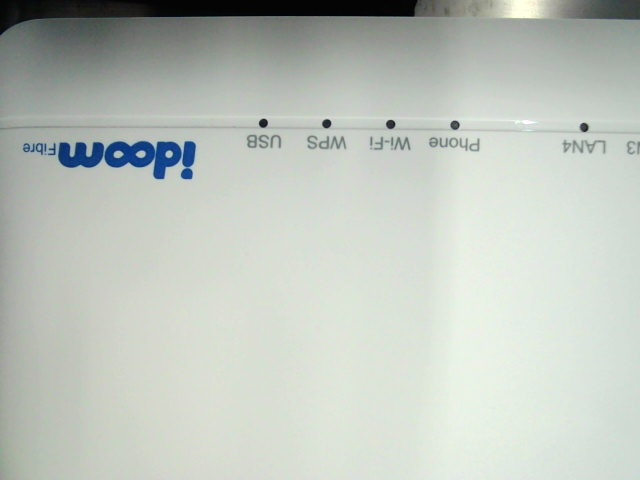BB_idoom: (19, 130, 208, 183)
